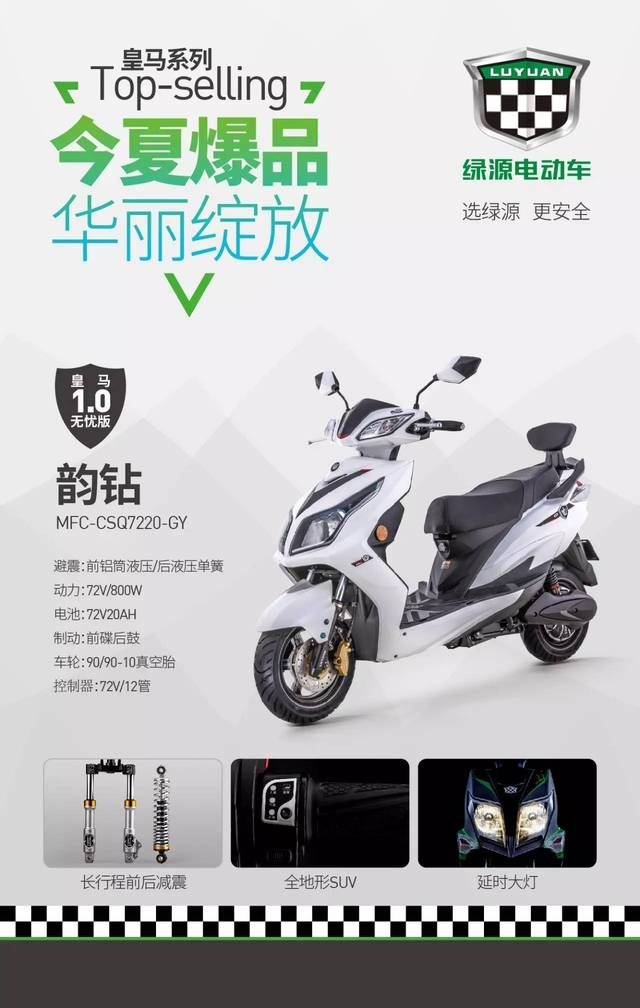电动车: (240, 339, 613, 726)
